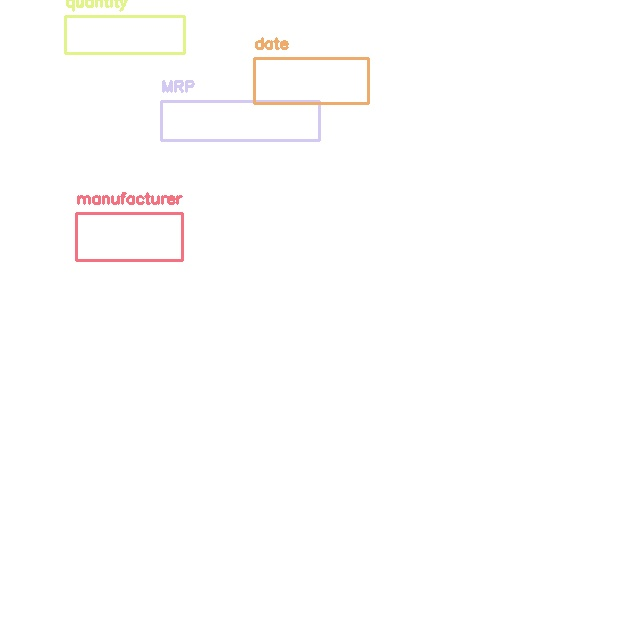MRP: (161, 101, 319, 140)
date: (254, 58, 368, 103)
manufacturer: (76, 213, 182, 260)
quantity: (65, 16, 184, 53)
